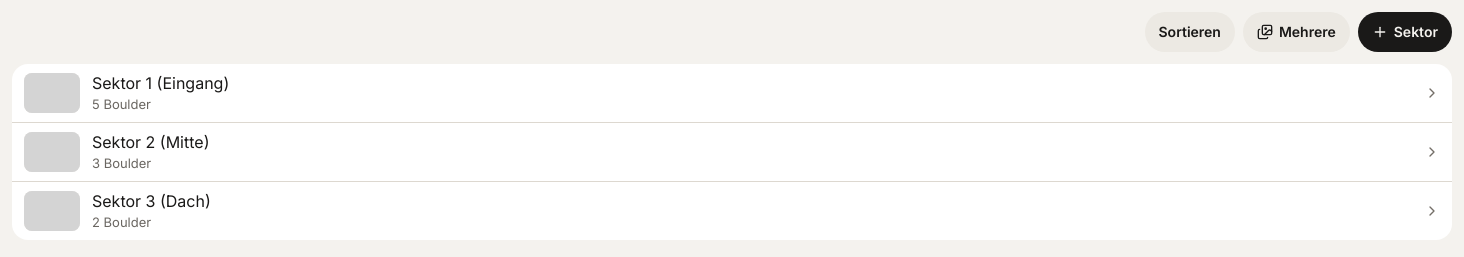
Test case: SPEC-001 AC-4: Sektor-Sortierung per Drag & Drop (SectorManager) › renders drag handles and ordering badges for admin users
Click the button with test id "toggle-reorder-mode-btn" at {"x": 1190, "y": 32}, box x1=1144 y1=12 x2=1235 y2=52
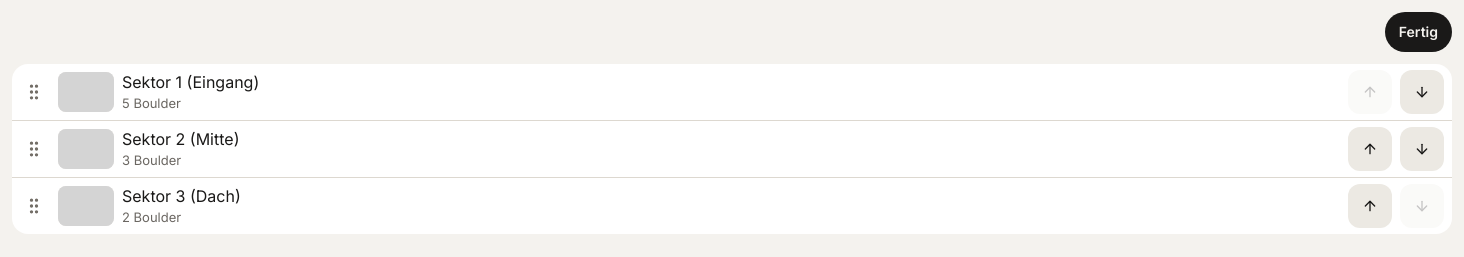
Expected: the element with test id "drag-handle-sec-1" is shown, x1=24 y1=82 x2=44 y2=102
Expected: the element with test id "drag-handle-sec-2" is shown, x1=24 y1=139 x2=44 y2=159
Expected: the element with test id "drag-handle-sec-3" is shown, x1=24 y1=196 x2=44 y2=216
